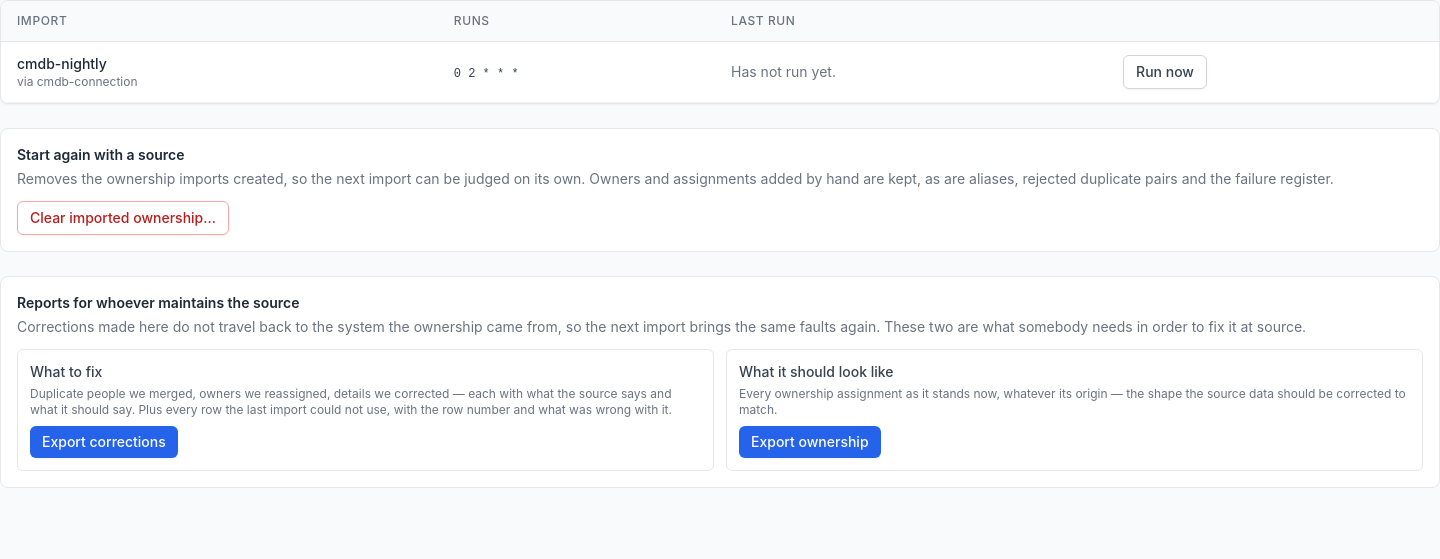
it: clearing imported ownership › names the numbers before asking, and does not delete on the first click
Click the button "Clear imported ownership…": (123, 218) [17,201,229,235]
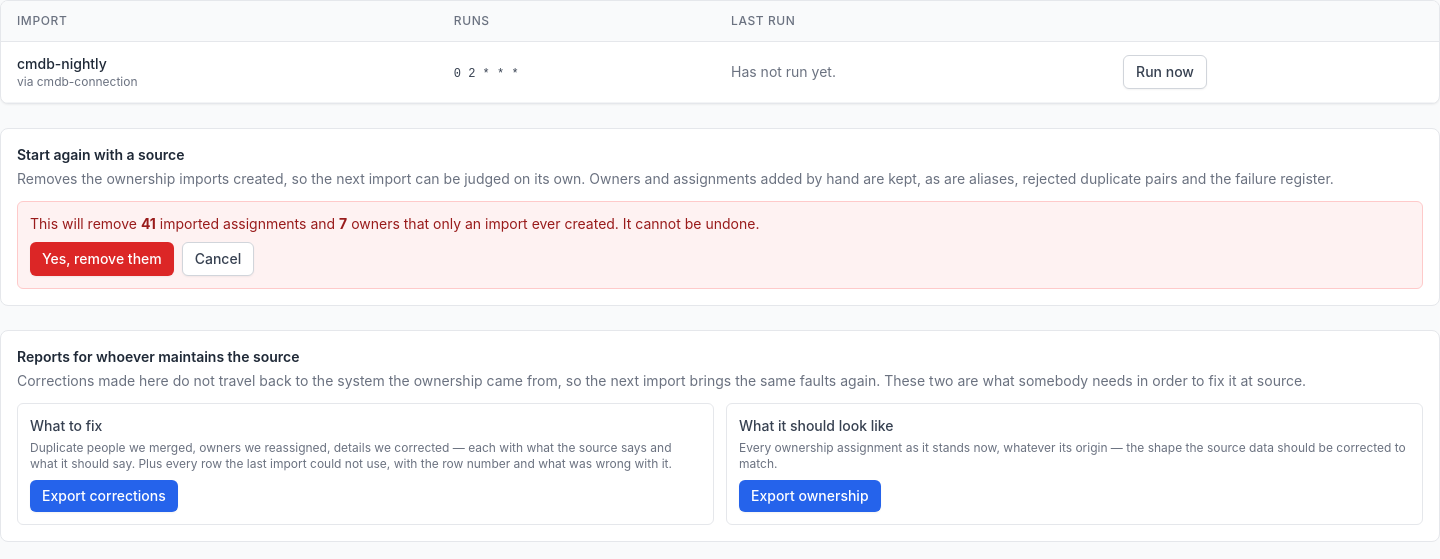
expect the text "41" is shown: met, box [141,215,156,232]
expect the text "7" is shown: met, box [339,215,347,232]
